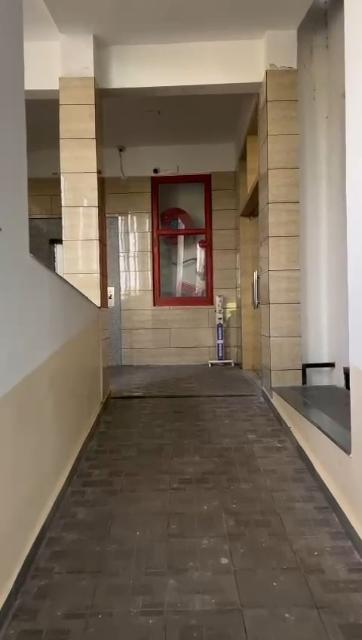floor: (0, 363, 362, 640)
wall: (0, 0, 101, 606), (278, 5, 362, 540), (262, 70, 304, 382), (61, 38, 98, 330), (112, 183, 150, 361), (209, 180, 245, 292), (146, 308, 212, 360)
